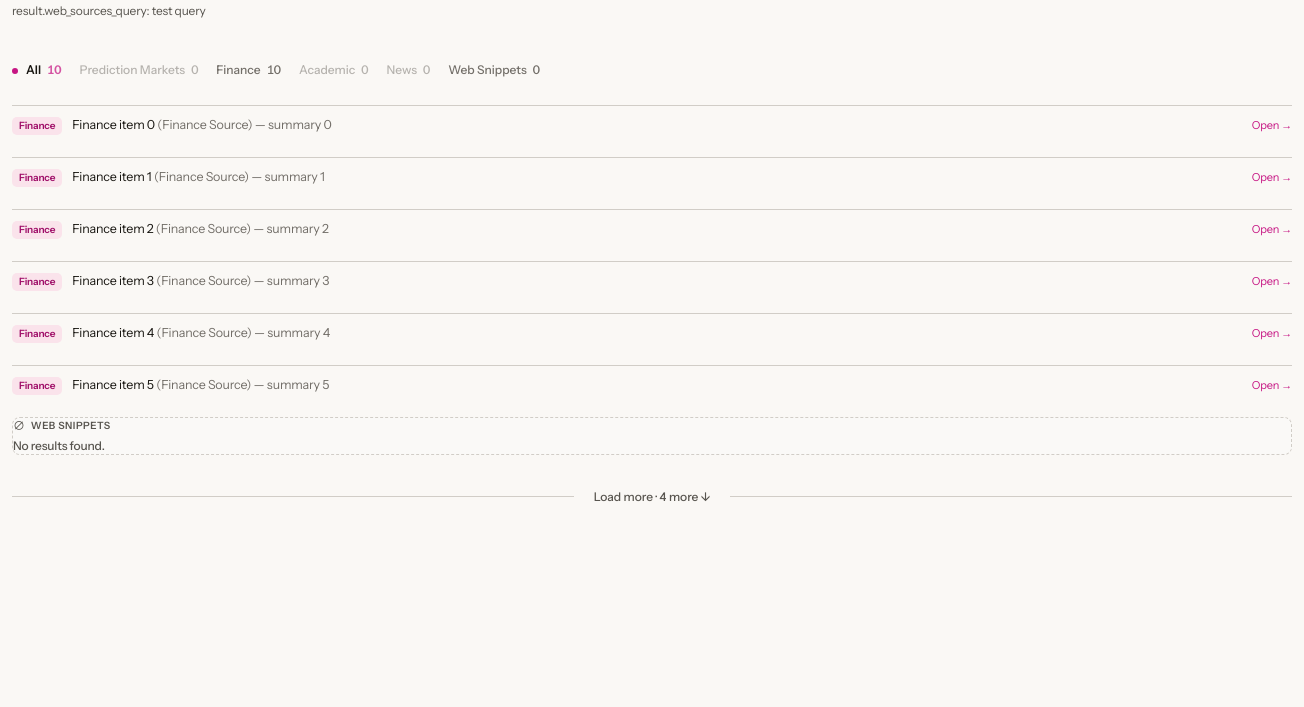
Scenario: UnifiedSourceFeed › caps display at 6 items by default and toggles expand
Expected: the text "Finance item 0" is shown, [72, 117, 155, 132]
Expected: the text "Finance item 5" is shown, [72, 377, 154, 392]
Click "Load more"
Click the button "Load more · 4 more ↓": coordinates (652, 496) [590, 487, 714, 506]
(page scrolled)
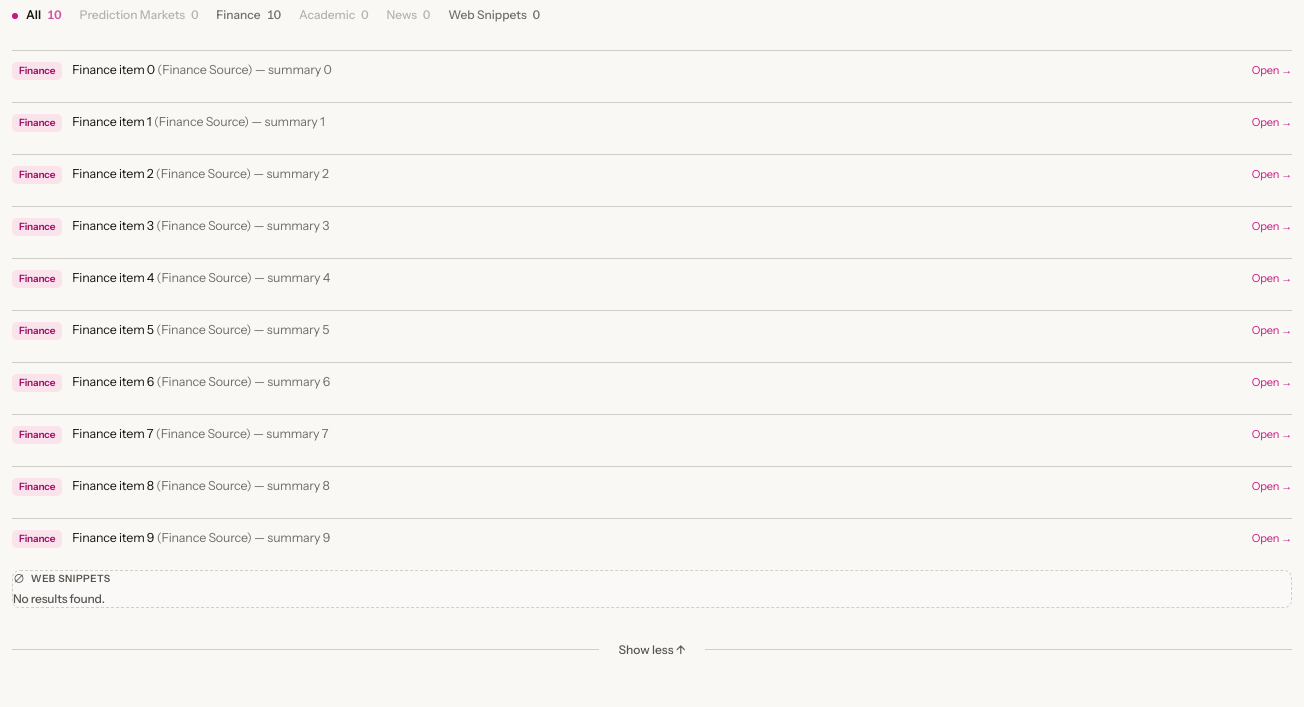
Expected: the text "Finance item 9" is shown, [72, 530, 154, 545]
Click "Show less"
Click the button "Show less ↑": coordinates (652, 650) [614, 640, 689, 659]
(page scrolled)
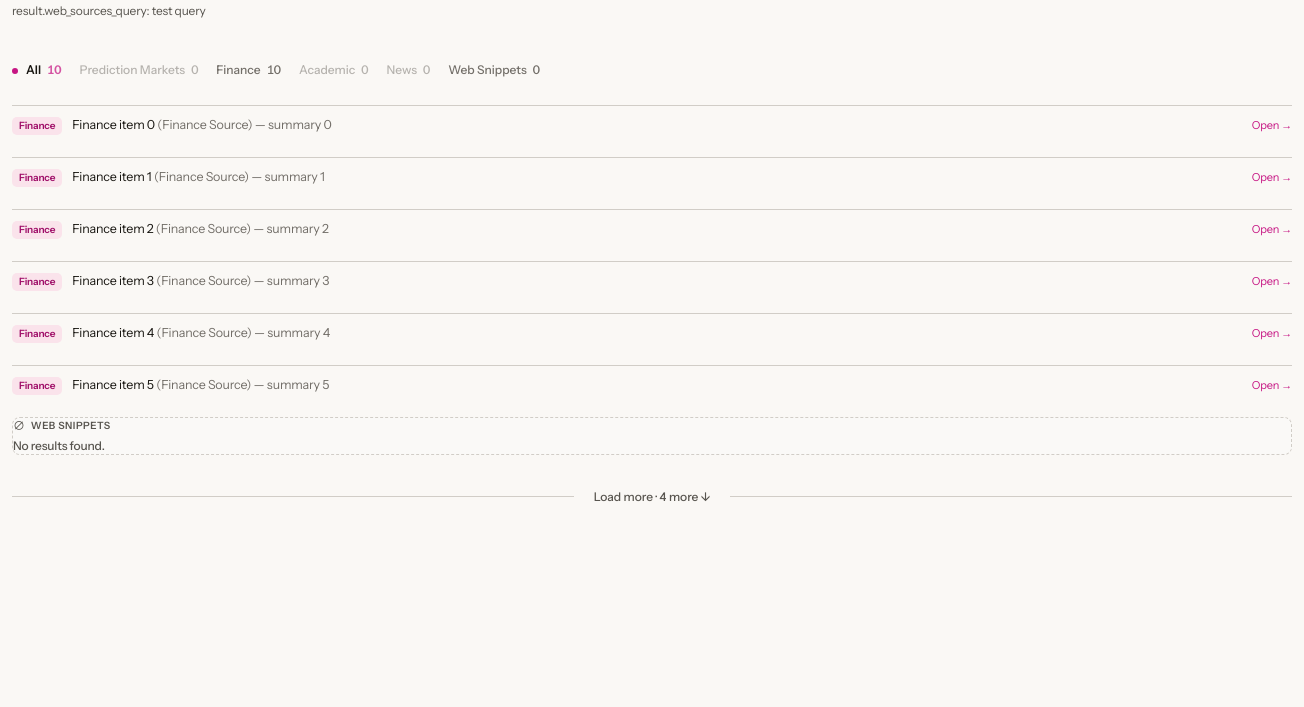
Expected: the text "Finance item 6" is gone
